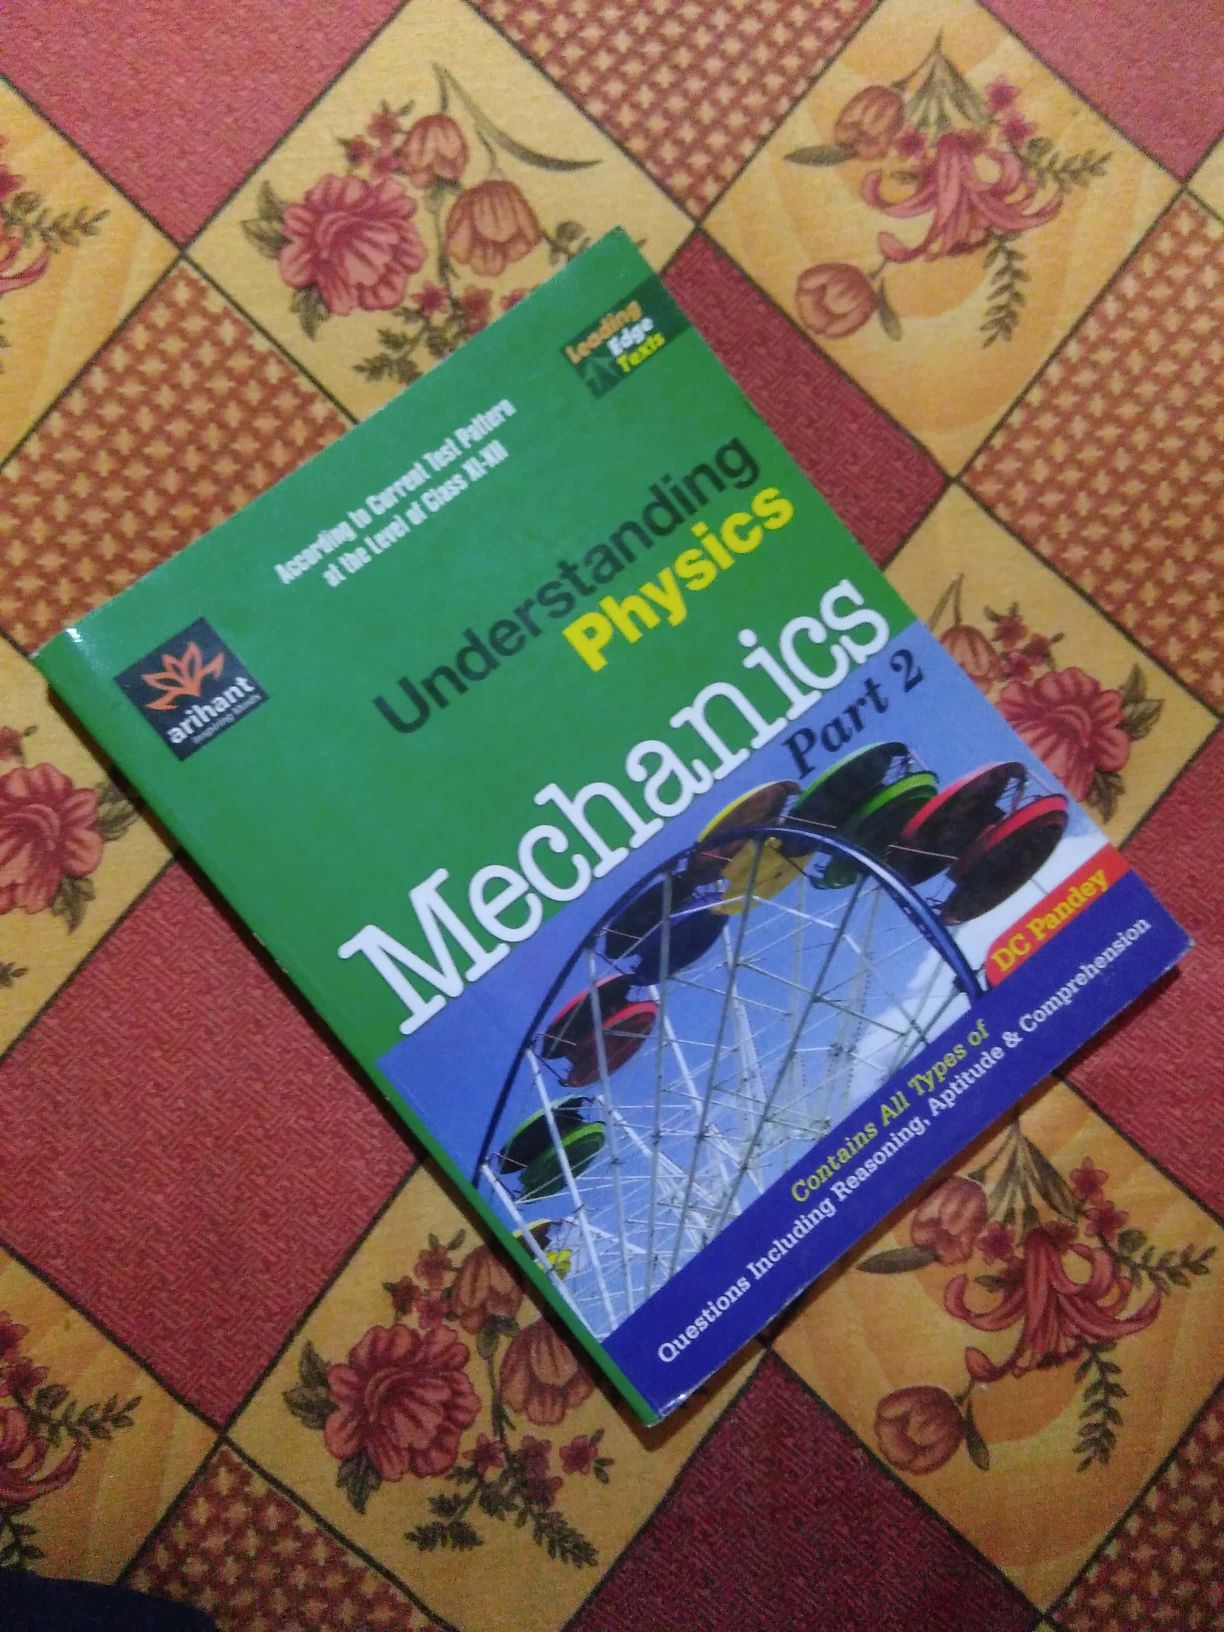mechanics: (37, 272, 1191, 1378)
